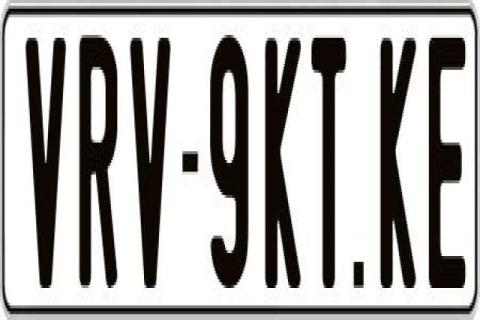0: (210, 26, 248, 288)
E: (426, 35, 461, 303)
K: (265, 35, 303, 297), (381, 38, 420, 288)
R: (78, 32, 122, 296)
T: (310, 32, 347, 300)
V: (26, 32, 72, 296), (126, 29, 170, 291)
